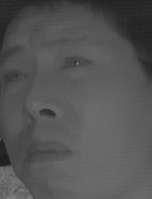eye: (57, 55, 94, 75), (1, 69, 29, 86)
mouth: (19, 136, 72, 169)
